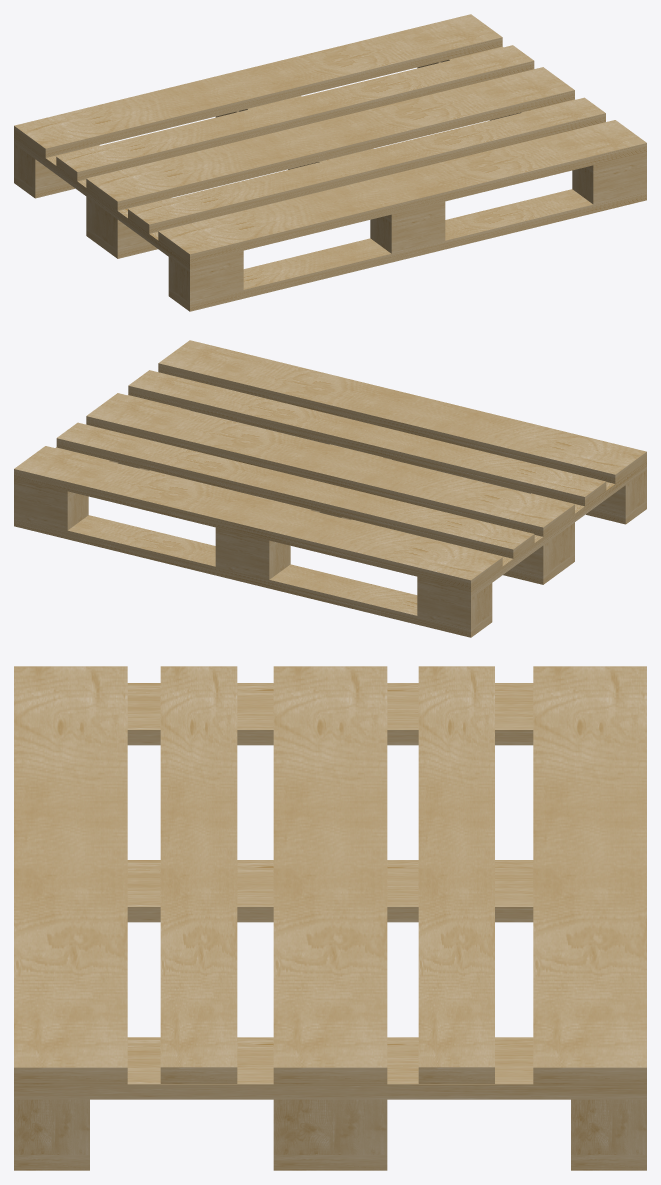
File: palle boss.fbx
The picture shows the model from 3 angles, top to bottom: view 1: azimuth 30°, elevation 25°; view 2: azimuth 150°, elevation 25°; view 3: azimuth 270°, elevation 25°; orthographic projection. The views are drawn at different scales.
Visible parts, largest first — view 1: Cube.001; view 2: Cube.001; view 3: Cube.001.
Boxes of the visible parts, x1=… form: Cube.001: x1=14, y1=14, x2=646, y2=311; Cube.001: x1=14, y1=340, x2=646, y2=637; Cube.001: x1=14, y1=666, x2=646, y2=1170.
Bounding box in the file's own units: 1.2 × 0.8 × 0.144.
1 material, 1 textured.
